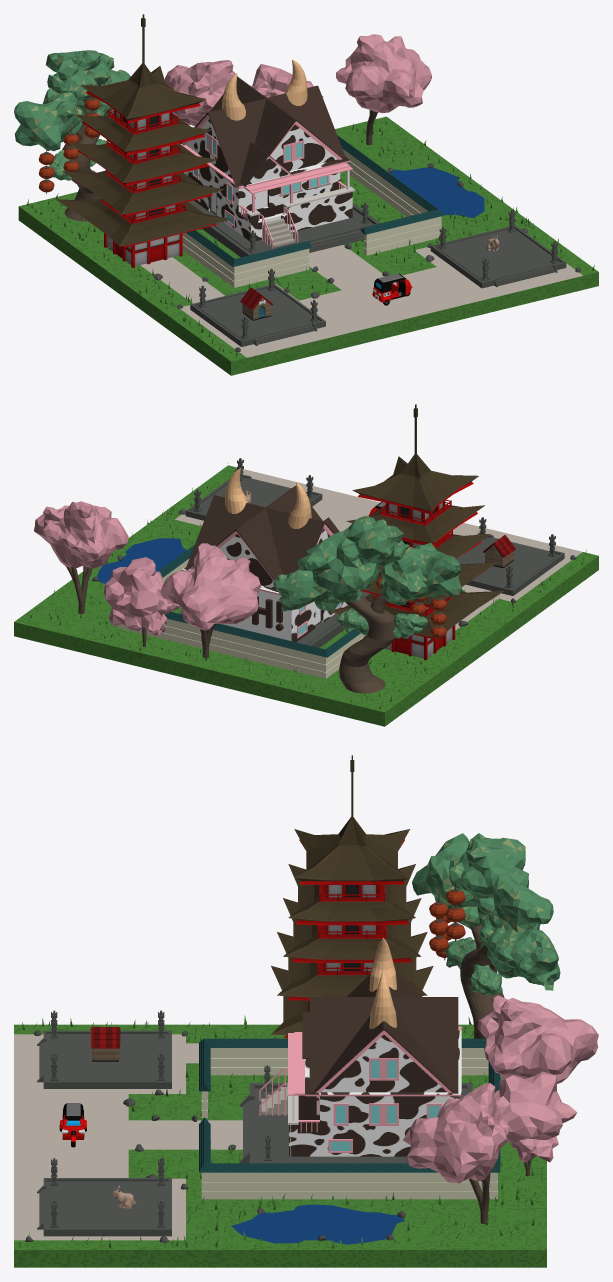
The picture shows the model from 3 angles, top to bottom: view 1: azimuth 30°, elevation 25°; view 2: azimuth 150°, elevation 25°; view 3: azimuth 270°, elevation 25°; orthographic projection. The views are drawn at different scales.
Visible parts, largest first — view 1: Cube.005, Cube.1242, VEHICLES_TUC_TUC, OBJRANDOM_DOGHOUSE; view 2: Cube.005, Cube.1242, OBJRANDOM_DOGHOUSE; view 3: Cube.005, Cube.1242, OBJRANDOM_DOGHOUSE, VEHICLES_TUC_TUC.
Part boxes in pixels (left/top/right/bottom): Cube.005: left=14, top=14, right=598, bottom=375; Cube.1242: left=179, top=59, right=355, bottom=248; VEHICLES_TUC_TUC: left=372, top=273, right=412, bottom=305; OBJRANDOM_DOGHOUSE: left=240, top=287, right=273, bottom=320; Cube.005: left=14, top=404, right=598, bottom=726; Cube.1242: left=181, top=468, right=347, bottom=642; OBJRANDOM_DOGHOUSE: left=483, top=535, right=515, bottom=568; Cube.005: left=14, top=755, right=598, bottom=1267; Cube.1242: left=259, top=938, right=461, bottom=1156; OBJRANDOM_DOGHOUSE: left=90, top=1027, right=120, bottom=1061; VEHICLES_TUC_TUC: left=59, top=1103, right=86, bottom=1147.
Bounding box in the file's own units: 4528 × 2706 × 4389.
50 materials, 5 textured.
